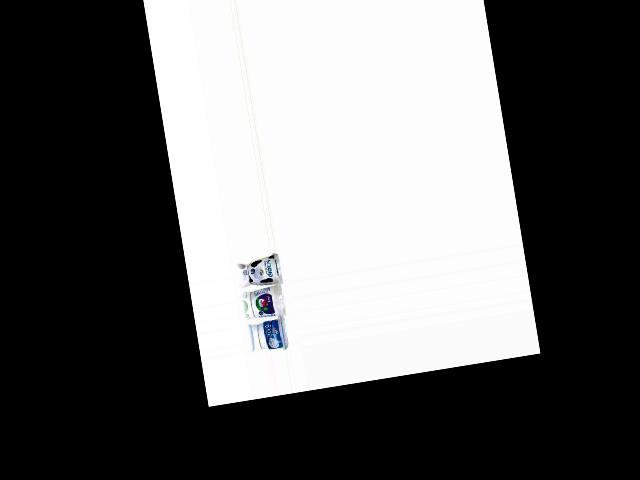cotage: (251, 314, 292, 354)
